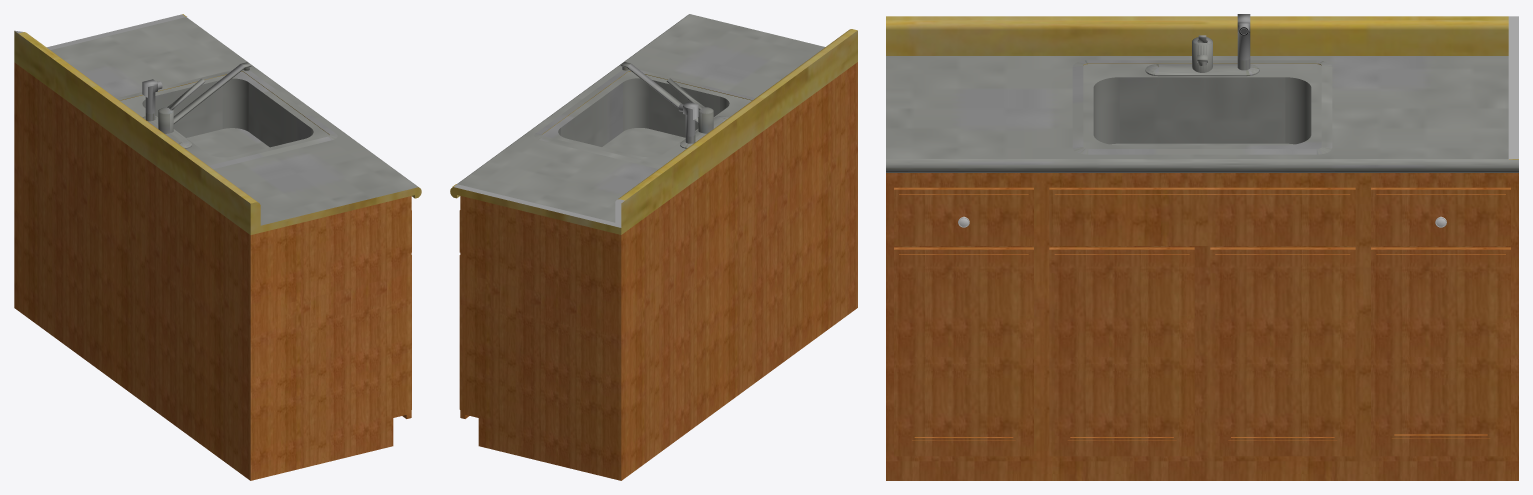
The model's file is counter.fbx.
The picture shows the model from 3 angles, left to right: view 1: azimuth 30°, elevation 25°; view 2: azimuth 150°, elevation 25°; view 3: azimuth 270°, elevation 25°; orthographic projection. The views are drawn at different scales.
Parts seen in each view (by area): view 1: counters:polySurface1; view 2: counters:polySurface1; view 3: counters:polySurface1.
Part boxes in pixels (x1=…): counters:polySurface1: x1=14, y1=14, x2=421, y2=480; counters:polySurface1: x1=450, y1=14, x2=857, y2=480; counters:polySurface1: x1=886, y1=14, x2=1518, y2=480.
Bounding box in the file's own units: 25.62 × 43.06 × 61.
9 materials, 4 textured.
